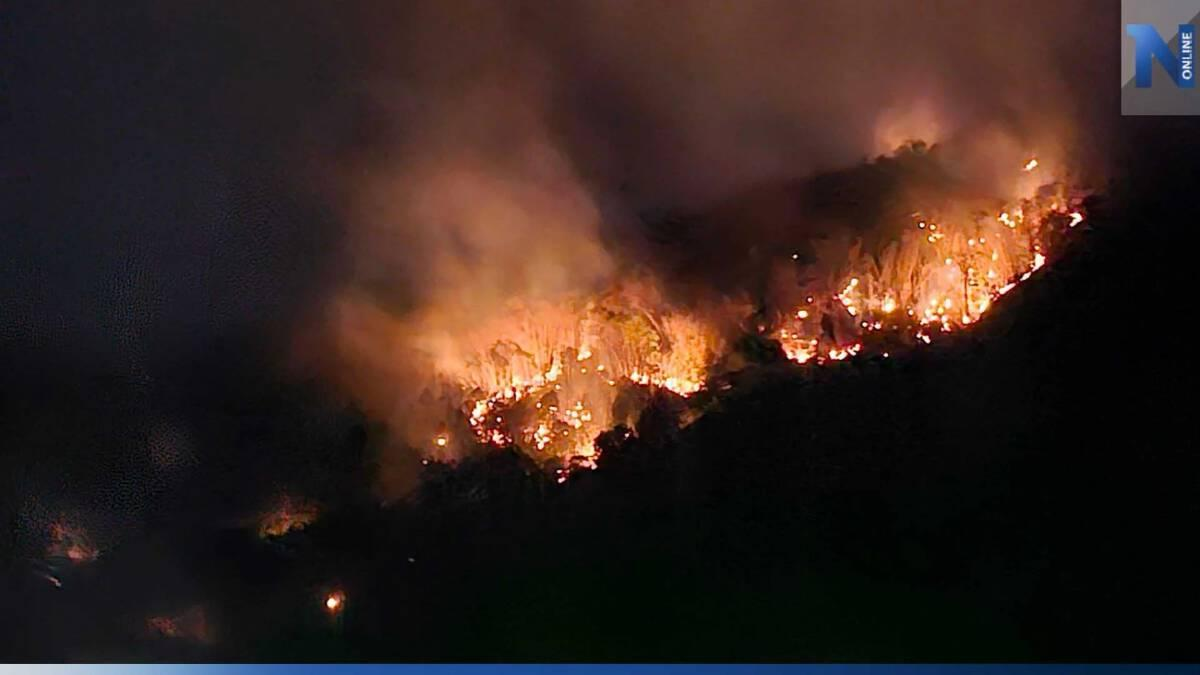fire: (394, 197, 1068, 509)
